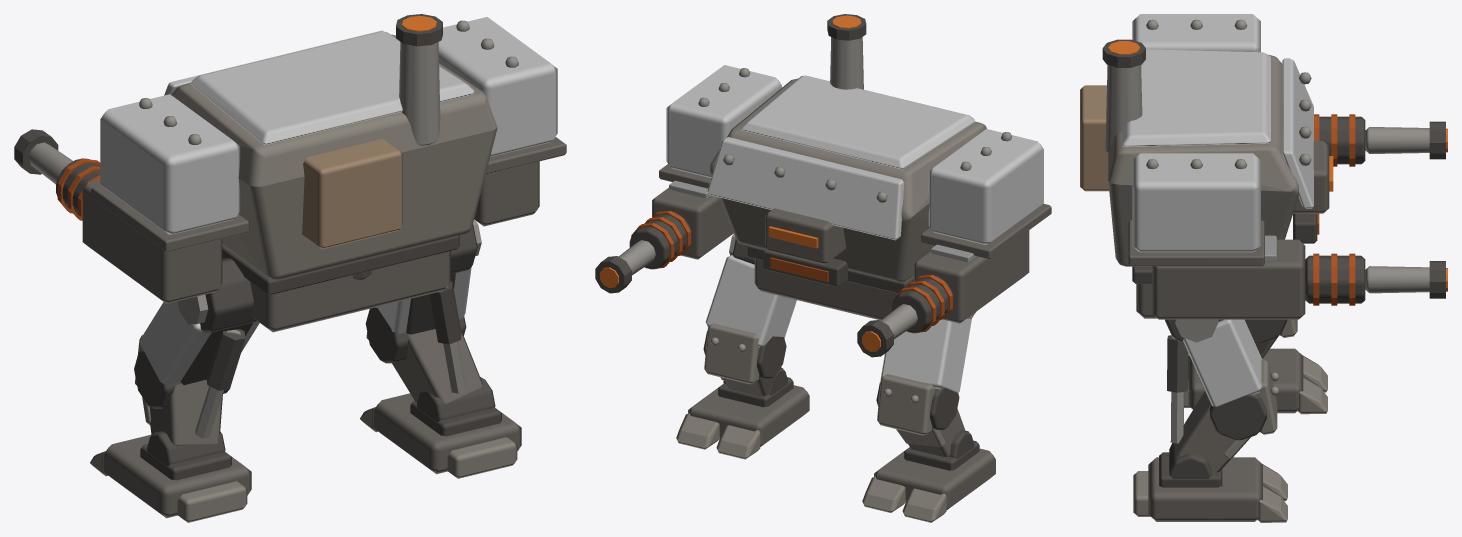
Rendered from crucible_assault_bot.glb.
3 views of the same model, side by side, from view 1: azimuth 30°, elevation 25°; view 2: azimuth 150°, elevation 25°; view 3: azimuth 270°, elevation 25° (orthographic). The views are drawn at different scales.
Visible parts, largest first — view 1: Turret, Body; view 2: Turret, Body; view 3: Turret, Body.
Part boxes in pixels (x1,y1,x2,y2): Turret: [14, 14, 566, 303]; Body: [90, 219, 521, 522]; Turret: [595, 14, 1051, 357]; Body: [676, 234, 995, 522]; Turret: [1080, 14, 1447, 319]; Body: [1132, 266, 1327, 522].
Bounding box in the file's own units: 1.04 × 1.17 × 0.915.
